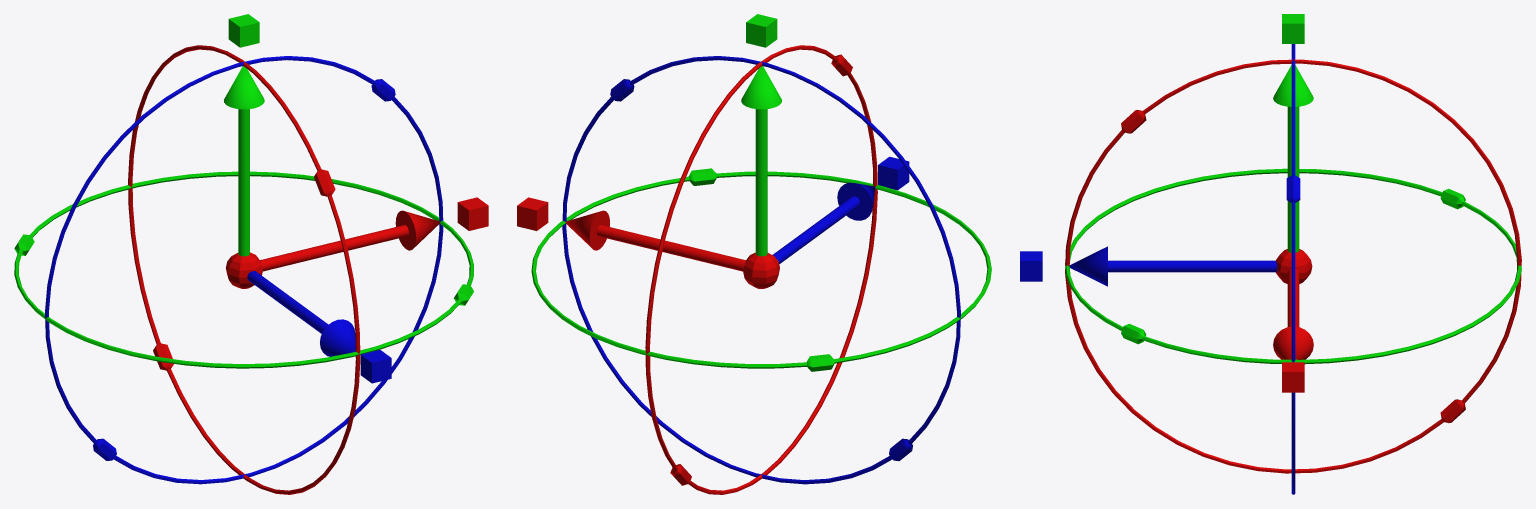
Rendered from Coordinate.fbx.
The picture shows the model from 3 angles, left to right: view 1: azimuth 30°, elevation 25°; view 2: azimuth 150°, elevation 25°; view 3: azimuth 270°, elevation 25°; orthographic projection.
Visible parts, largest first — view 1: Coordinate_Rotate1; view 2: Coordinate_Rotate1; view 3: Coordinate_Rotate1.
Boxes of the visible parts, left/top/right/bottom form: Coordinate_Rotate1: left=14, top=14, right=488, bottom=494; Coordinate_Rotate1: left=517, top=14, right=991, bottom=494; Coordinate_Rotate1: left=1020, top=14, right=1521, bottom=494.
Size of the model in its own units: 2.22 by 2.22 by 2.22.
